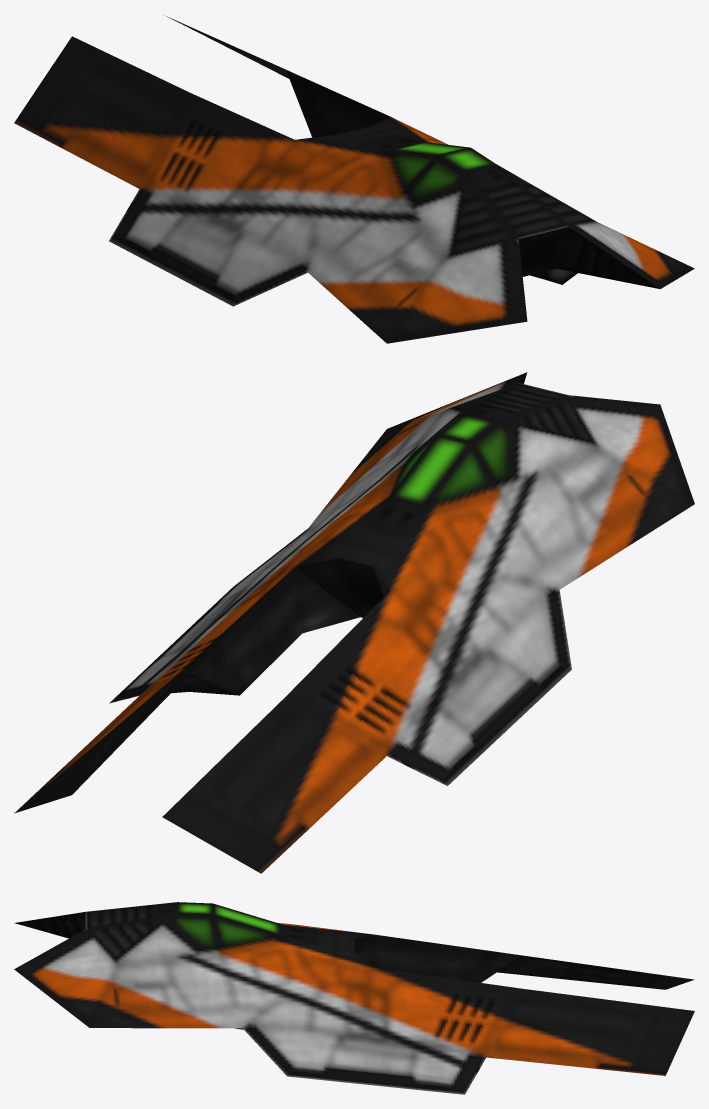
File: hyperion.FBX
3 views of the same model, one above another, from view 1: azimuth 30°, elevation 25°; view 2: azimuth 150°, elevation 25°; view 3: azimuth 270°, elevation 25° (orthographic). The views are drawn at different scales.
Parts seen in each view (by area): view 1: hyperion; view 2: hyperion; view 3: hyperion.
Part boxes in pixels (x1,y1,x2,y2): hyperion: (14,15,694,343); hyperion: (14,372,694,873); hyperion: (14,902,694,1094).
Bounding box in the file's own units: 5.18 × 2.62 × 12.63.
